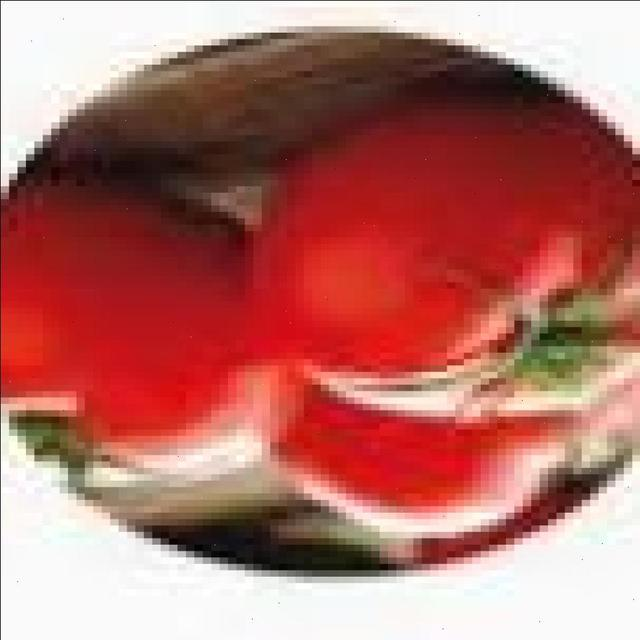Healthy Fruit: (87, 156, 289, 304)
